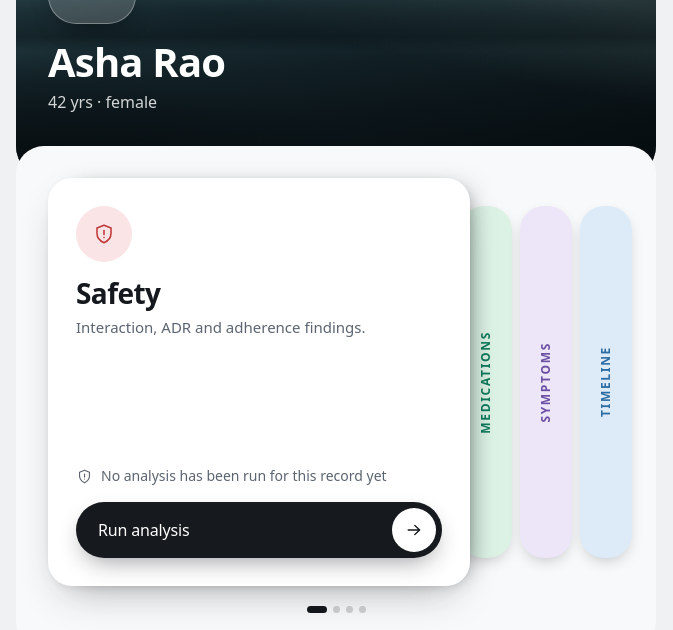
Scenario: PatientPage › runs analysis and refreshes the displayed result
This screenshot has width=673, height=630.
(page scrolled)
Check: the heading "Asha Rao" is shown, box x1=48 y1=34 x2=225 y2=89
Click the button "Run analysis" at {"x": 144, "y": 530}, box x1=76 y1=502 x2=442 y2=558
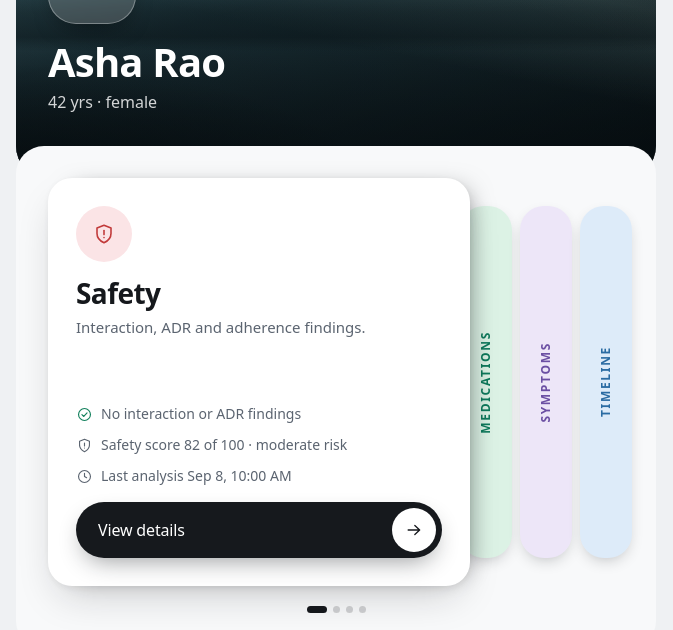
Check: the text "Safety score 82 of 100 · moderate risk" is shown, box x1=101 y1=436 x2=347 y2=455
